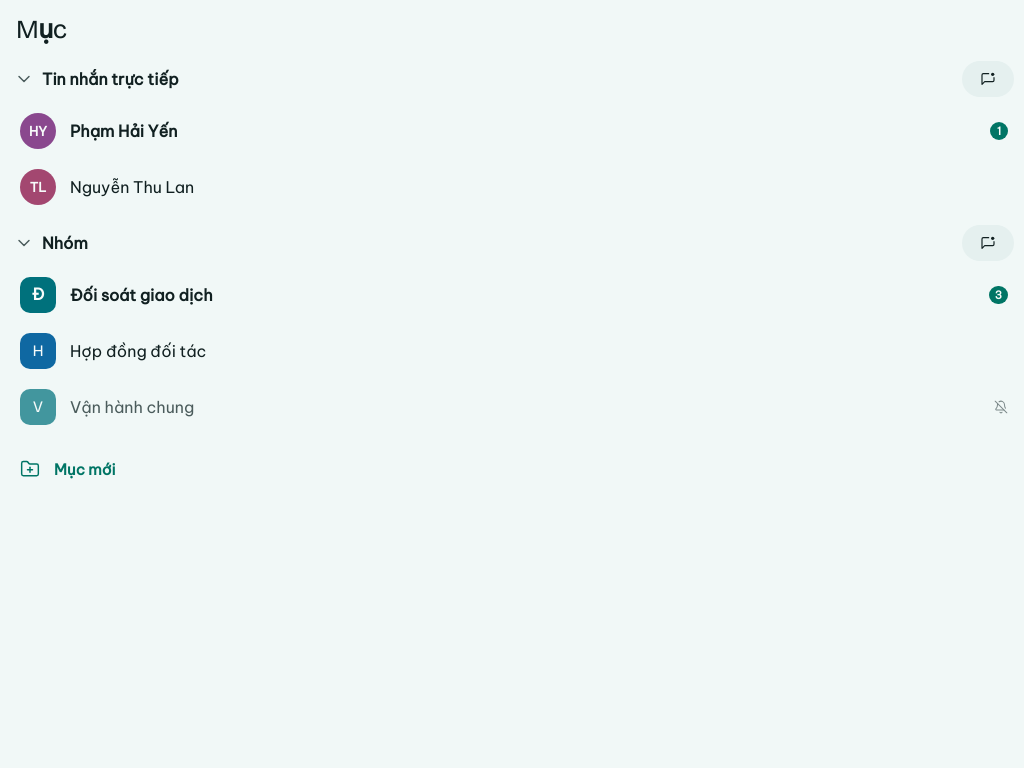
Scenario: the long-press sheet: star and mute › a muted row offers Bật thông báo instead
Press the mouse on the list item named "Vận hành chung, đã tắt thông báo" at (512, 407), box 0,379 -> 1023,435
Wait 401 ms
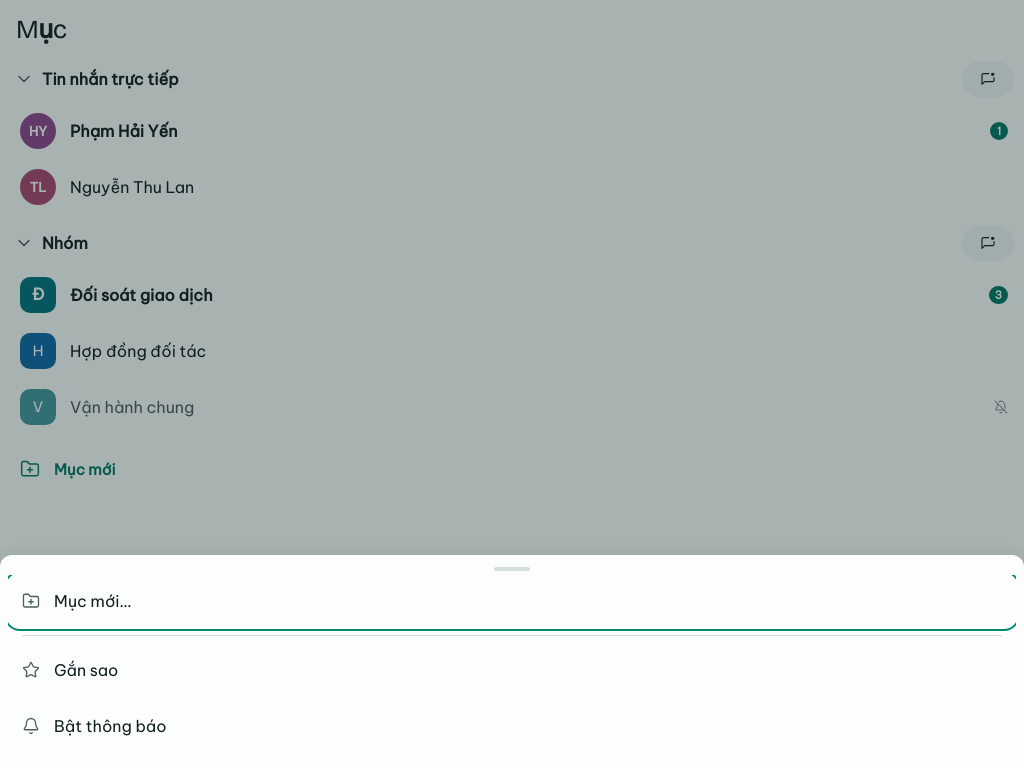
Expected: the button "Bật thông báo" is shown, 8,700 -> 1016,752
